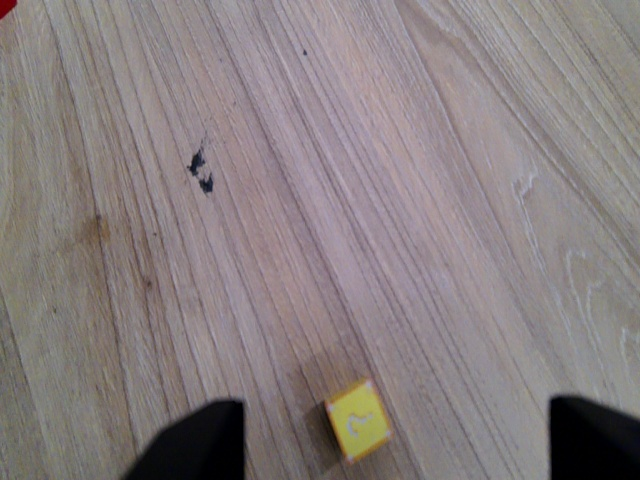lucky: (319, 375, 400, 469)
